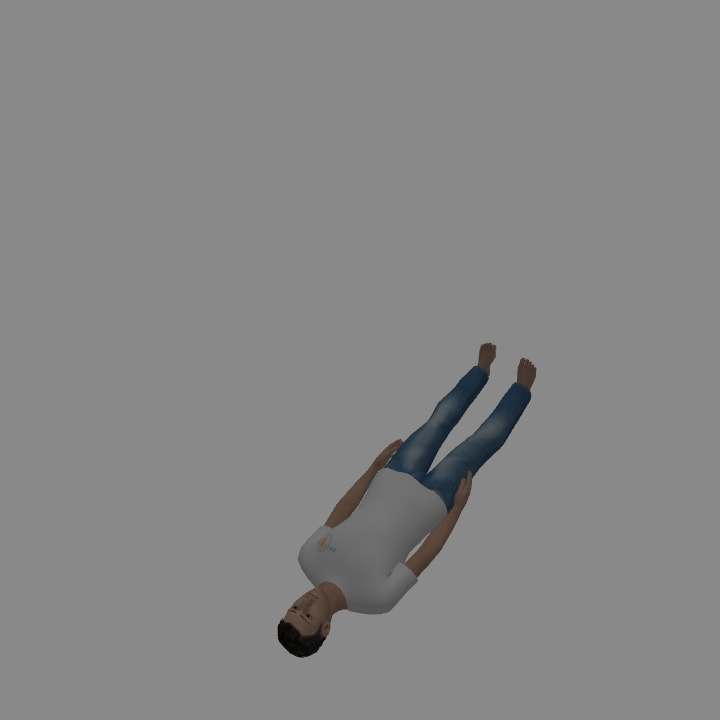victim: (277, 344, 534, 655)
